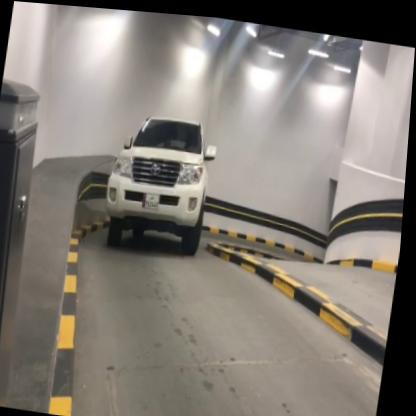np: (144, 188, 164, 209)
